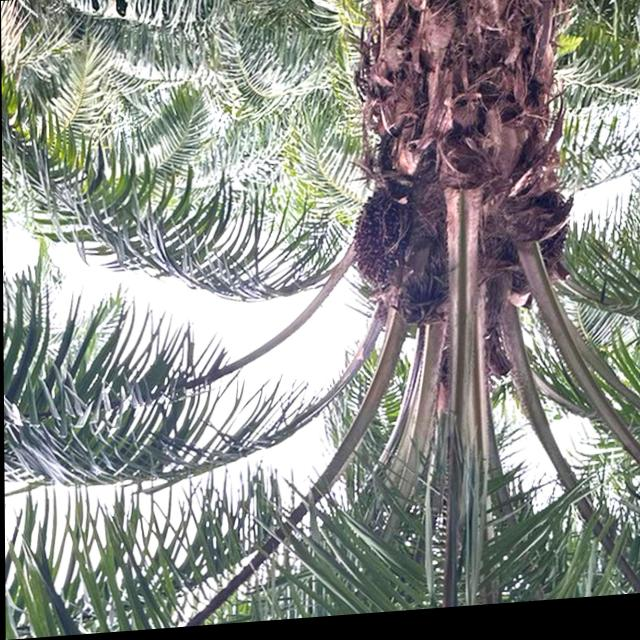ripe: (340, 187, 415, 307)
